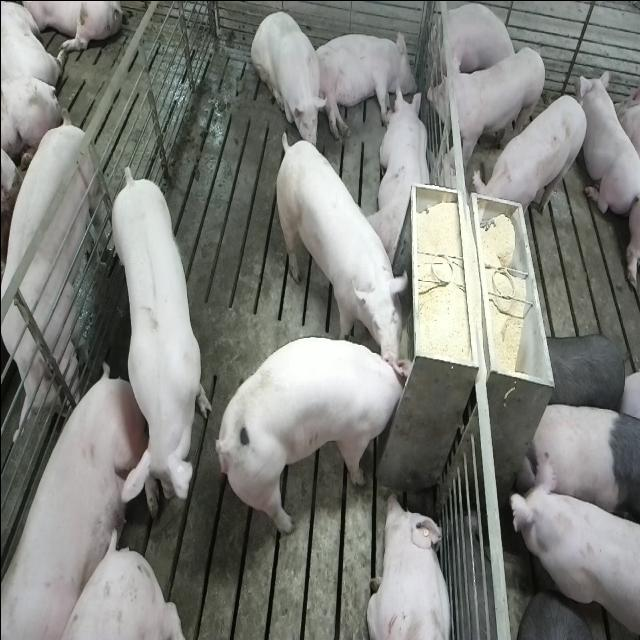Feeding: (215, 336, 406, 542), (273, 127, 407, 376)
Lateral_lying: (3, 361, 160, 636), (310, 27, 418, 139)
Sitting: (250, 8, 327, 152)
Standing: (106, 158, 208, 526), (0, 106, 103, 428), (506, 454, 638, 640), (473, 92, 588, 238), (520, 402, 638, 528)
Sternal_lying: (366, 490, 454, 640), (370, 80, 432, 262), (578, 70, 638, 222)
